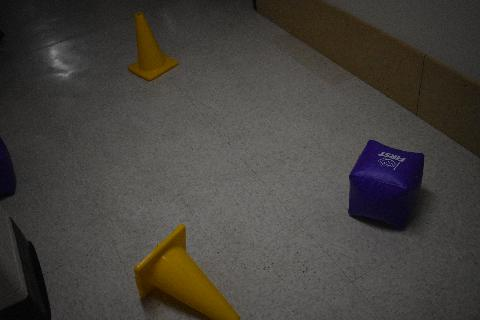cone: (133, 222, 241, 320), (128, 12, 178, 82)
cube: (347, 139, 425, 229), (0, 136, 17, 200)
